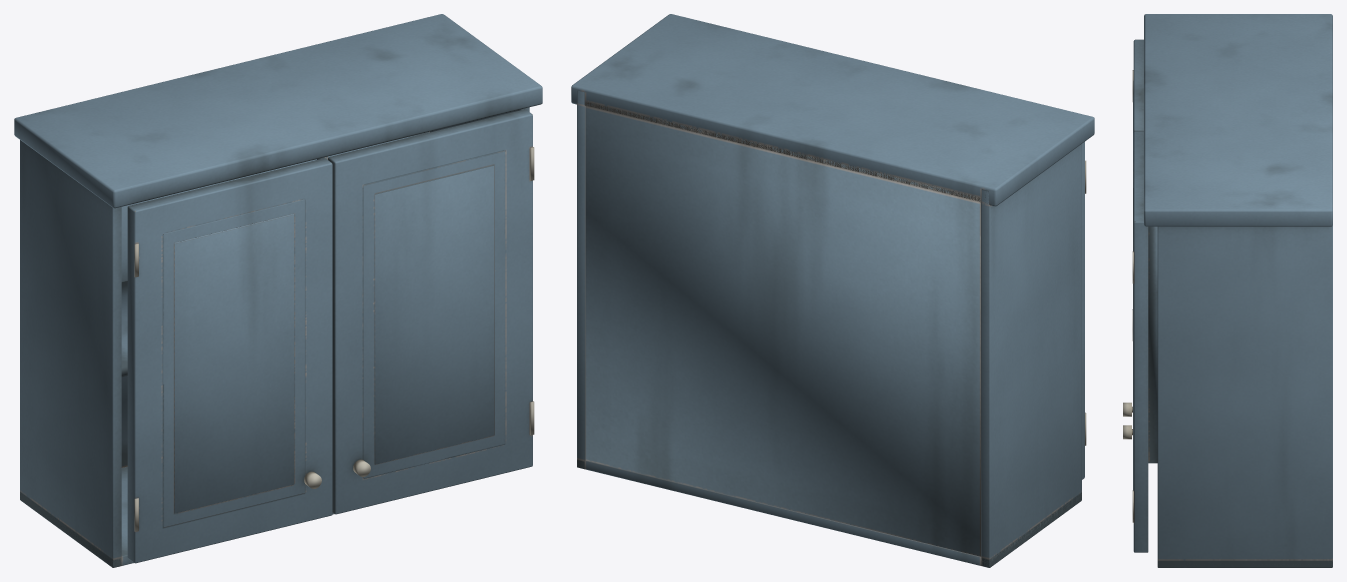
Rendered from haengeschrank.glb.
The picture shows the model from 3 angles, left to right: view 1: azimuth 30°, elevation 25°; view 2: azimuth 150°, elevation 25°; view 3: azimuth 270°, elevation 25°; orthographic projection. The views are drawn at different scales.
Visible parts, largest first — view 1: schrank; view 2: schrank; view 3: schrank.
Boxes of the visible parts, x1=… form: schrank: x1=14, y1=14, x2=542, y2=567; schrank: x1=571, y1=14, x2=1094, y2=567; schrank: x1=1123, y1=14, x2=1332, y2=567.
Size of the model in its own units: 0.824 by 0.704 by 0.371.
Materials: 1 (1 with a texture image).
